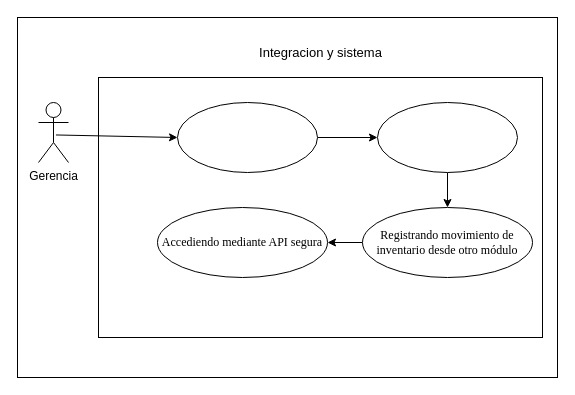
The diagram is 575 pixels wide and 395 high, and some of its shapes have lost their labels. Here are the shapes that lost their labels. From the top down, the centre of each, then its label:
point (247, 137): Configurando permisos de operación entre módulos
point (447, 137): Actualizando el stock de manera instantánea
